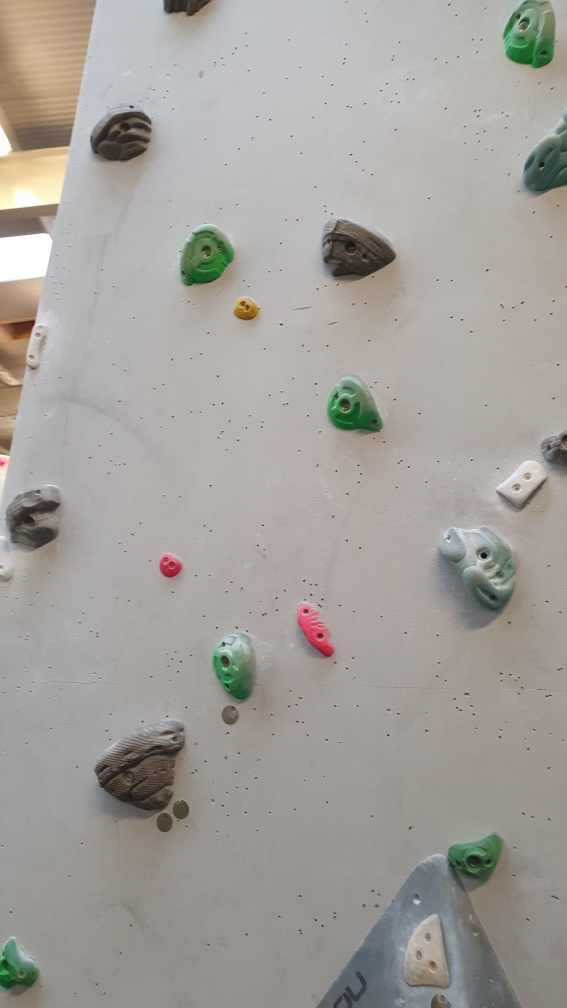Crimp: (398, 914, 453, 992), (292, 599, 338, 661), (498, 456, 546, 512)
Hand Start: (153, 813, 177, 837), (171, 798, 191, 823), (220, 703, 239, 728)
Jug: (97, 719, 188, 812), (438, 520, 516, 616), (321, 216, 395, 281), (493, 1, 560, 69), (87, 101, 156, 164), (177, 222, 238, 290), (519, 113, 567, 198), (208, 627, 260, 704), (5, 484, 63, 550), (326, 373, 385, 437), (450, 832, 508, 881)
Pinch: (234, 295, 262, 322), (158, 551, 183, 576)
